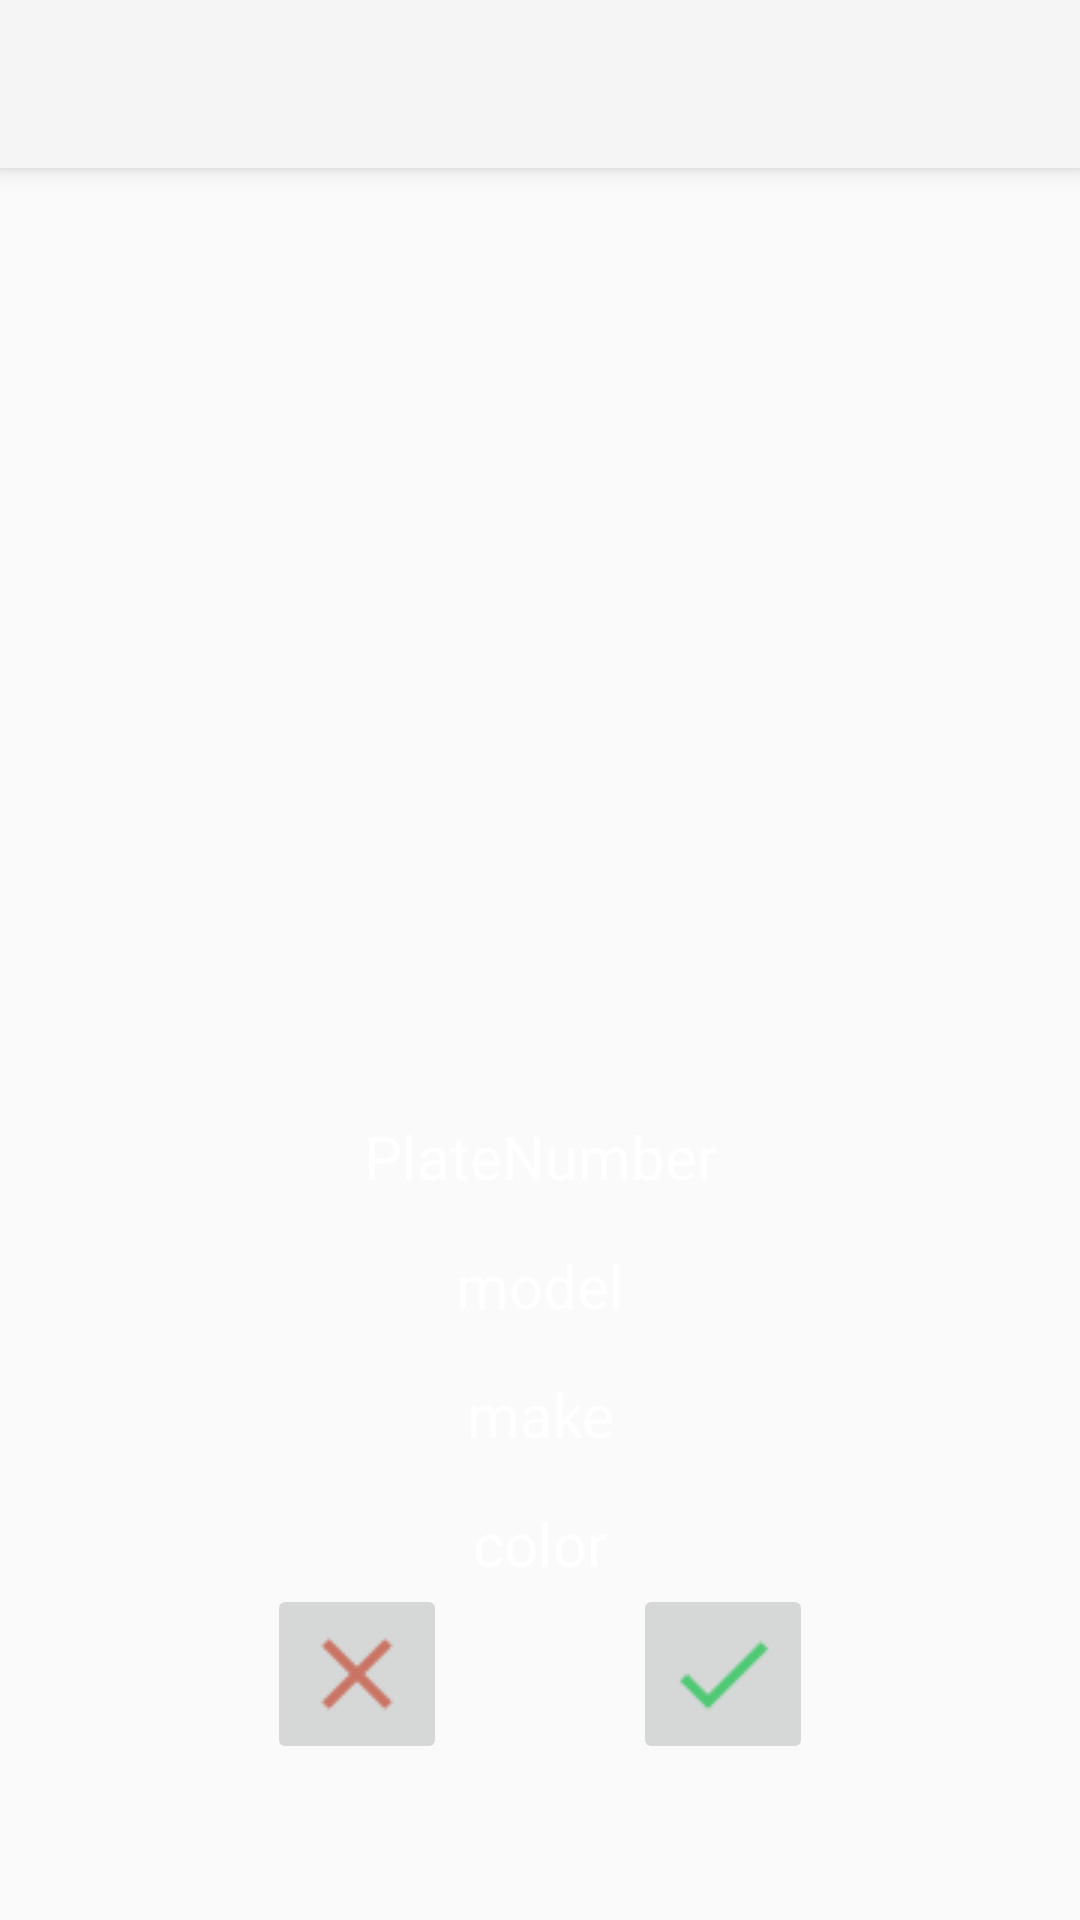

Locate icon controls on the screen. Image size 1080*1920, boxes as (x1, y1, x2, y2).
yes: (645, 1602, 801, 1746)
